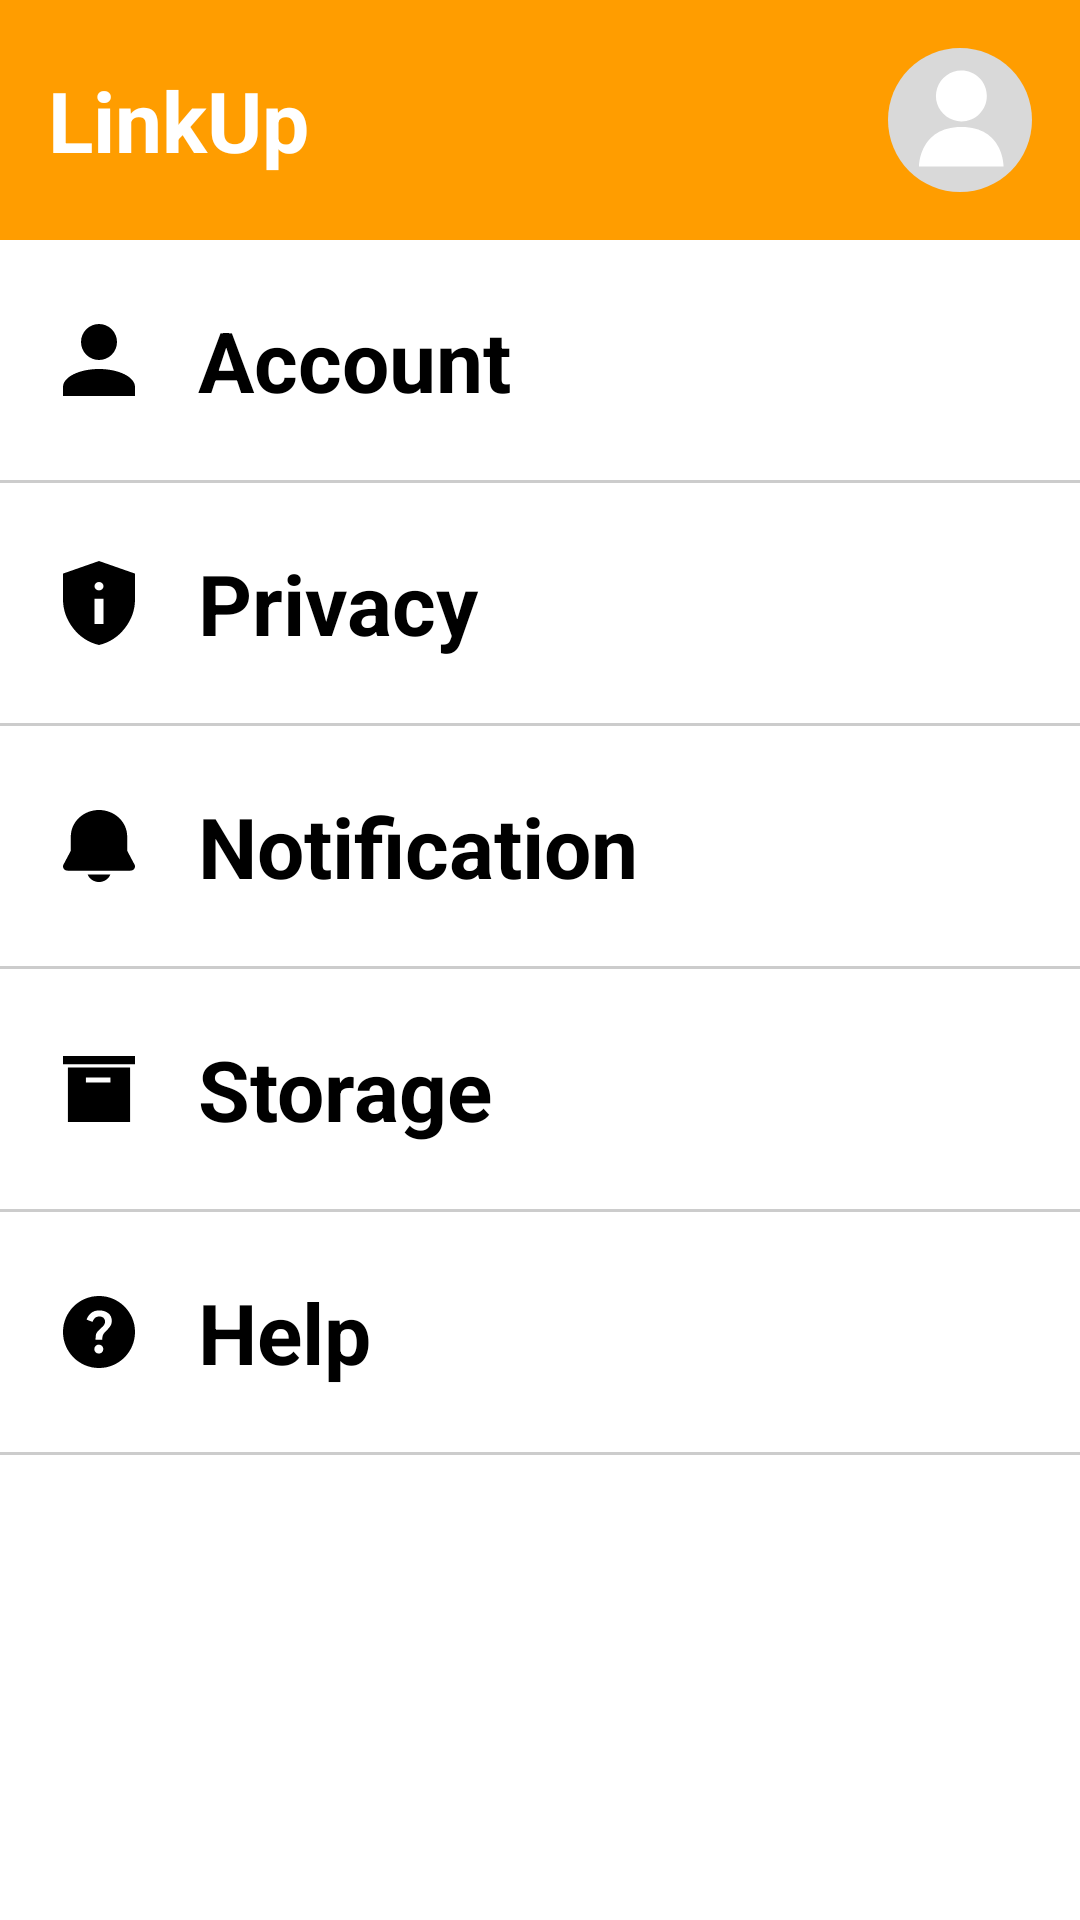

Icon bounding boxes for this 1080×1920 phone screenshot, format (x1, y1, x2, y2):
Profile picture: (888, 48, 1032, 192)
